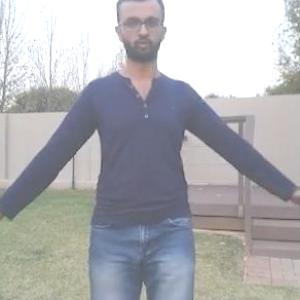land: (16, 5, 274, 299)
